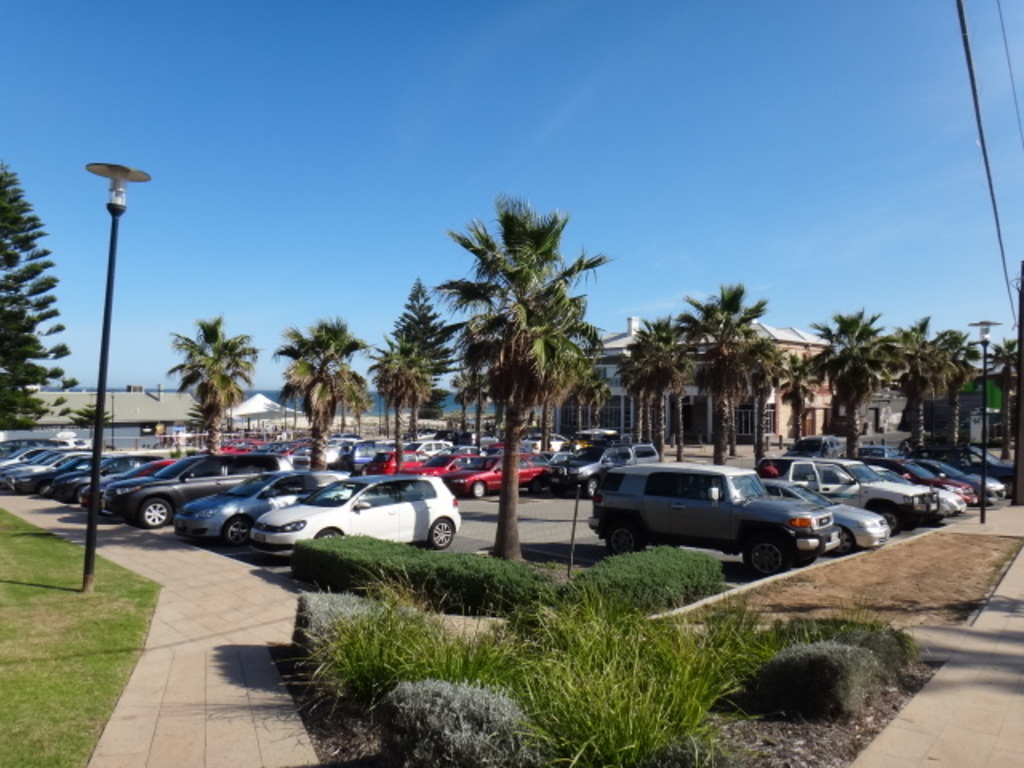Car: (246, 471, 464, 564), (704, 471, 896, 566), (97, 444, 291, 531), (180, 462, 353, 556), (763, 447, 939, 537), (843, 451, 979, 516), (76, 452, 211, 510), (547, 436, 659, 494), (51, 451, 155, 508), (451, 447, 555, 500), (0, 444, 97, 489), (406, 446, 487, 484)
